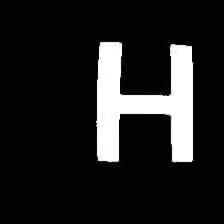LTR_H: (90, 31, 200, 168)
